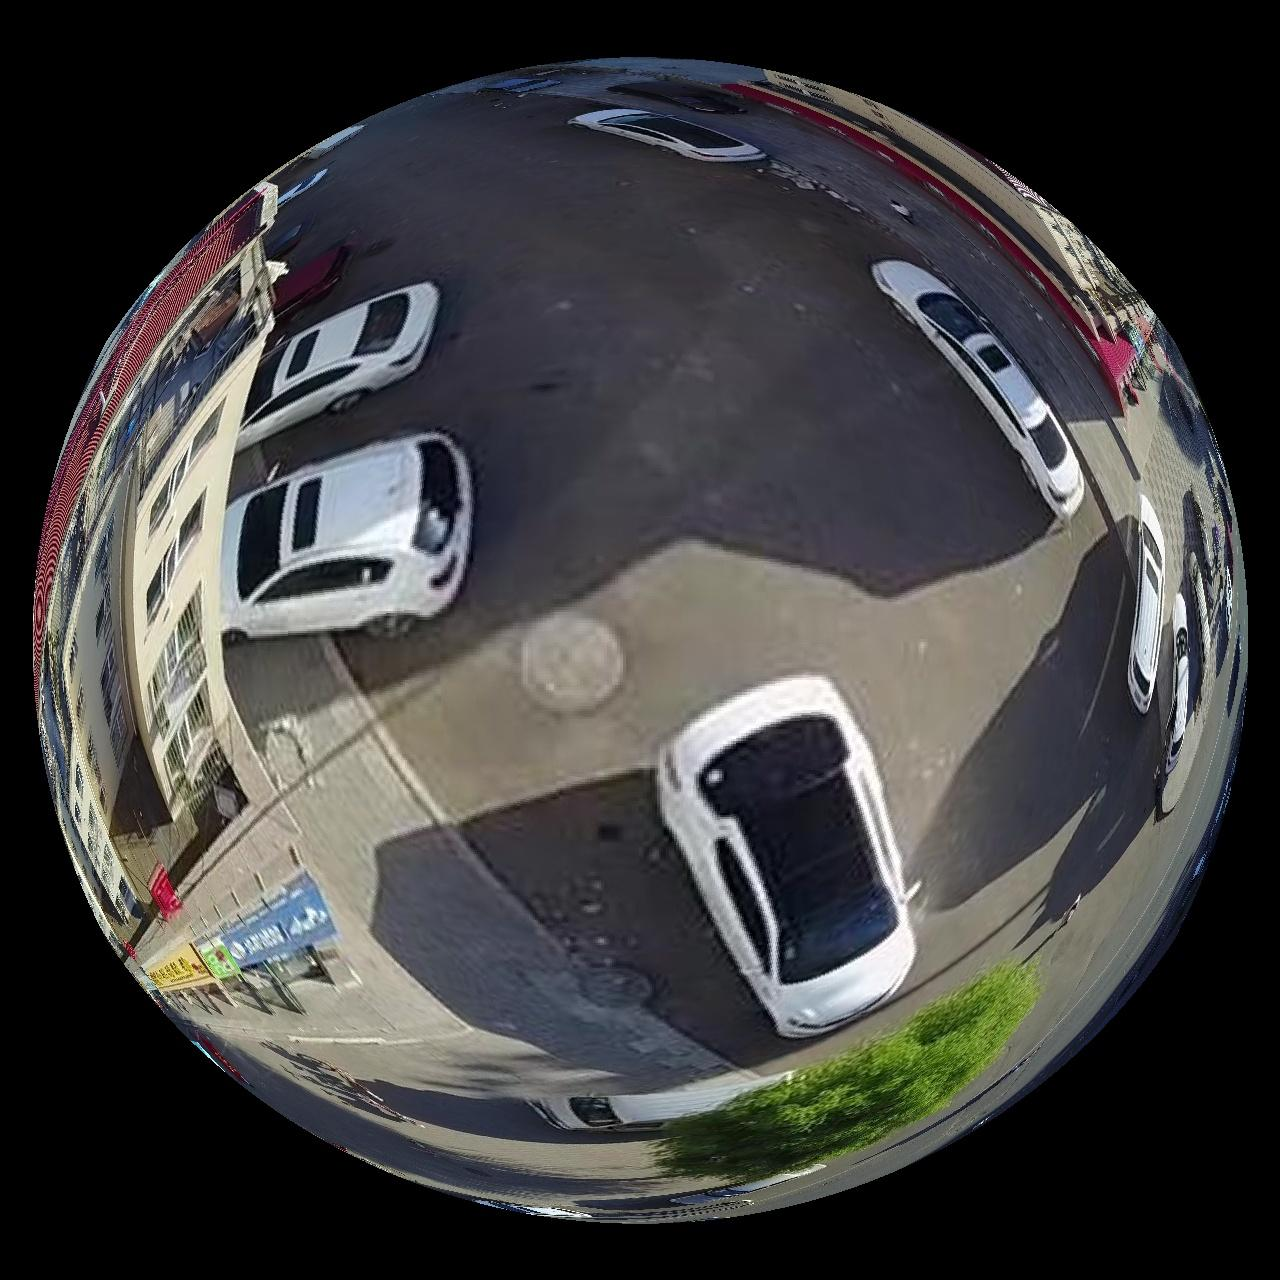building: (34, 182, 349, 1062), (662, 64, 1179, 414)
cars: (658, 676, 917, 1039), (874, 259, 1085, 517), (222, 433, 474, 638), (237, 281, 440, 448), (532, 1073, 794, 1133), (570, 107, 767, 161), (1130, 495, 1167, 714), (1167, 594, 1194, 775)
trees: (658, 965, 1042, 1186)
